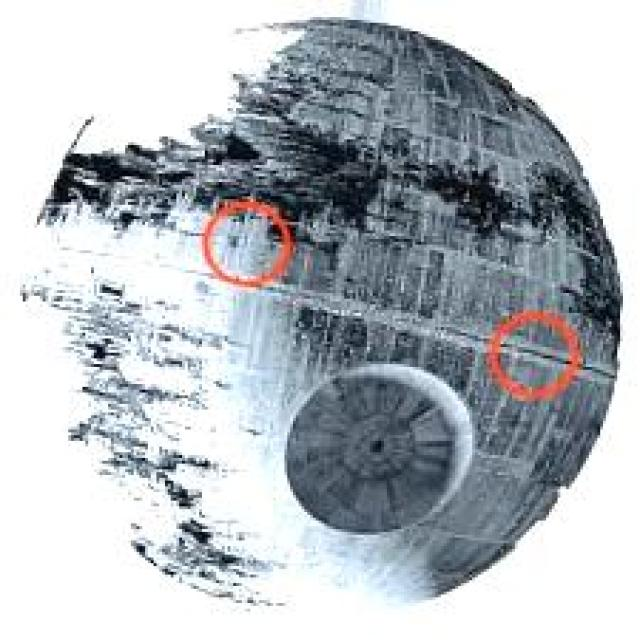deathstar: (20, 18, 621, 606)
